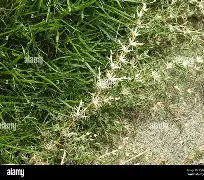weed: (0, 0, 203, 163)
